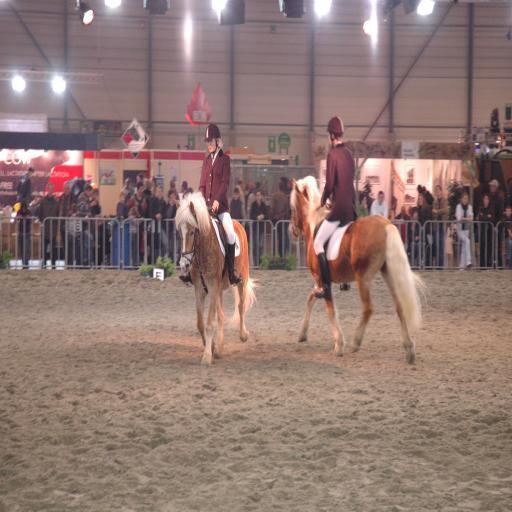horse: (288, 175, 430, 366), (173, 191, 262, 366)
